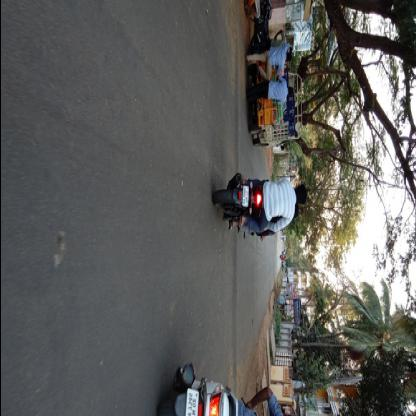speed-bumps: (223, 226, 250, 410), (224, 25, 251, 161)
